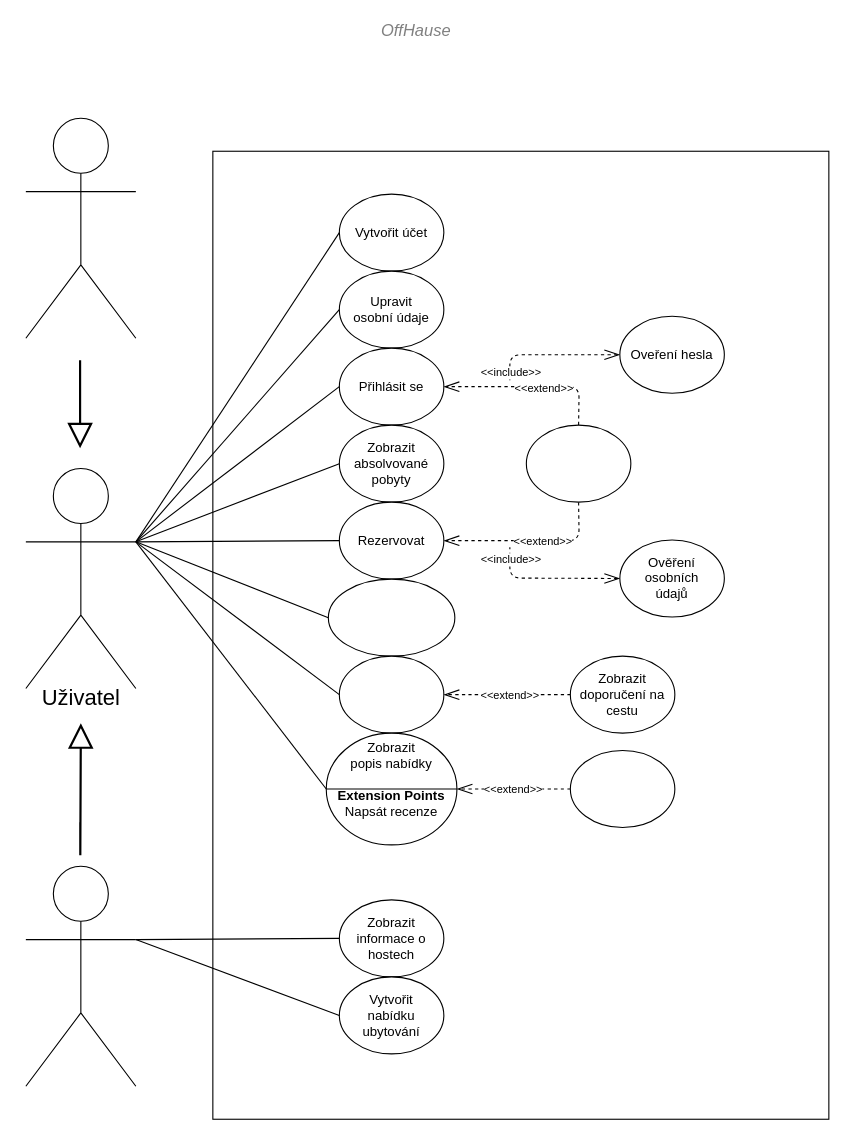
This 848x1139 diagram has some shape labels left out. The box of each missing label's shape, as (x1, y1, x2, y2) in pixels:
Host: (25, 117, 136, 338)
Napsát recenze: (569, 749, 675, 828)
Pronajímatel: (25, 865, 136, 1086)
Vyhledat ubytování: (338, 655, 444, 733)
Zobrazení chyby: (525, 424, 631, 502)
Zobrazit informace o pronajímatelovi: (327, 578, 455, 656)
